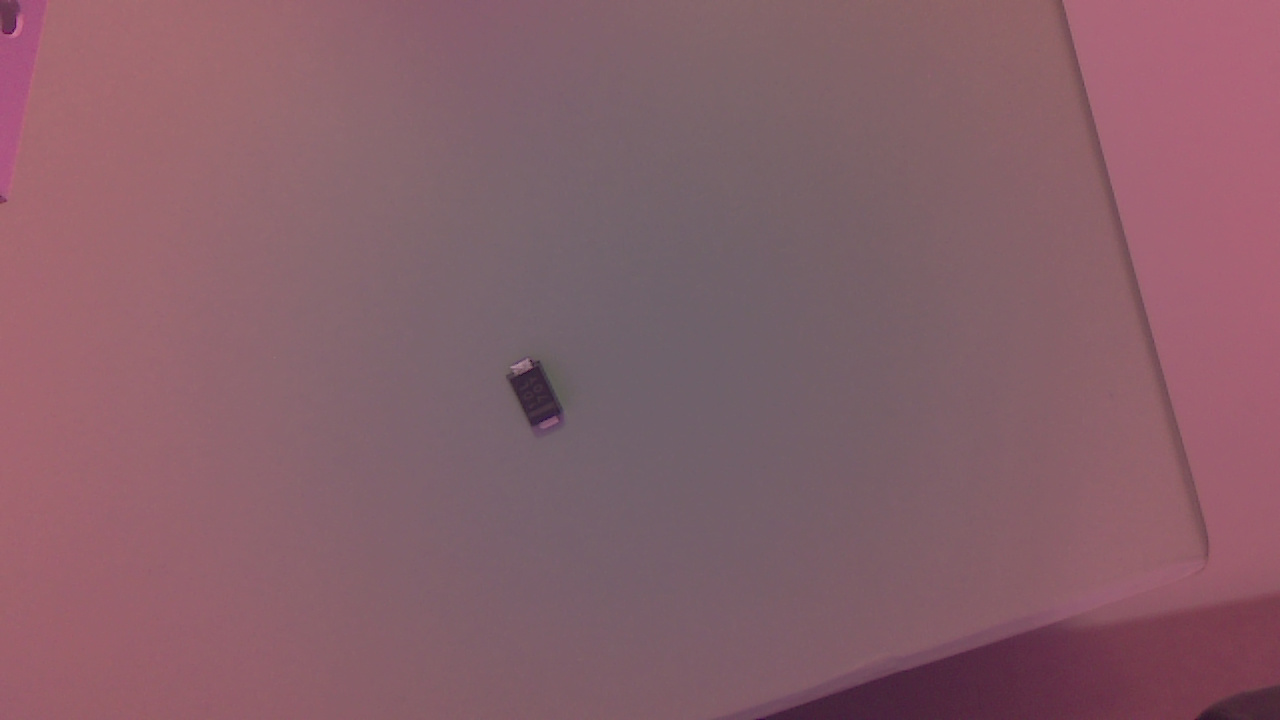Diode: (508, 356, 572, 441)
